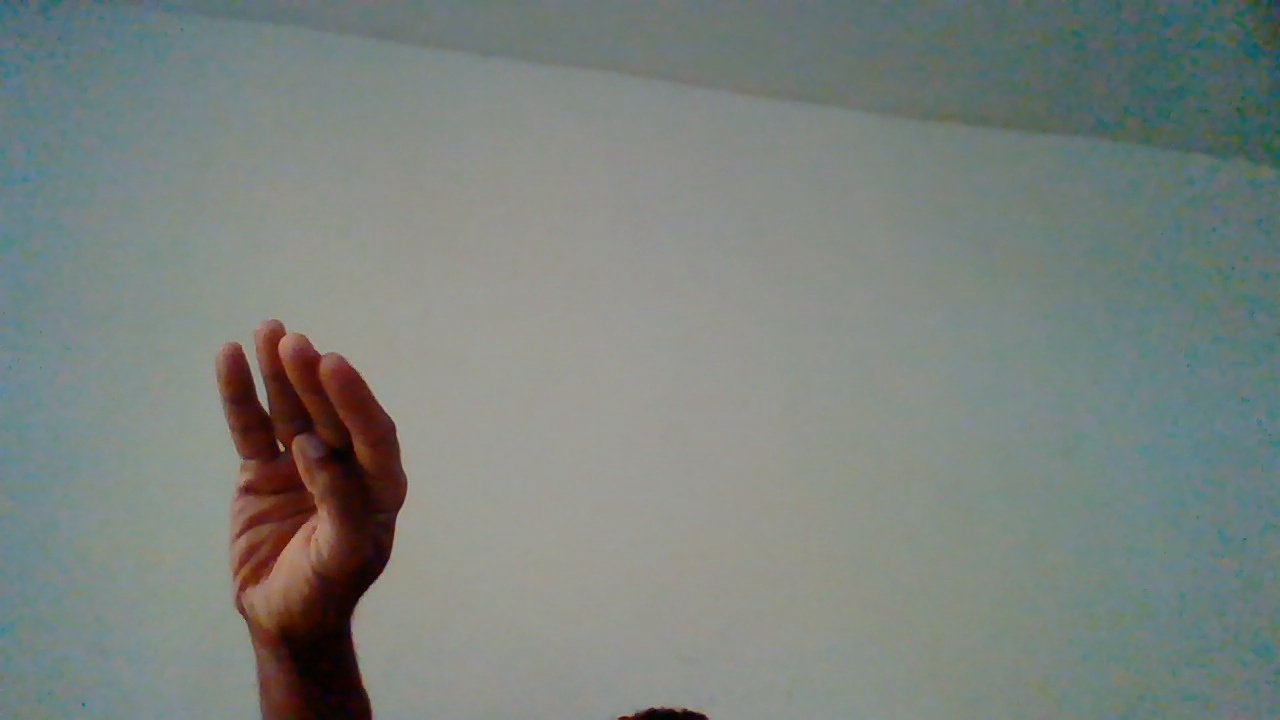me: (212, 321, 407, 720)
